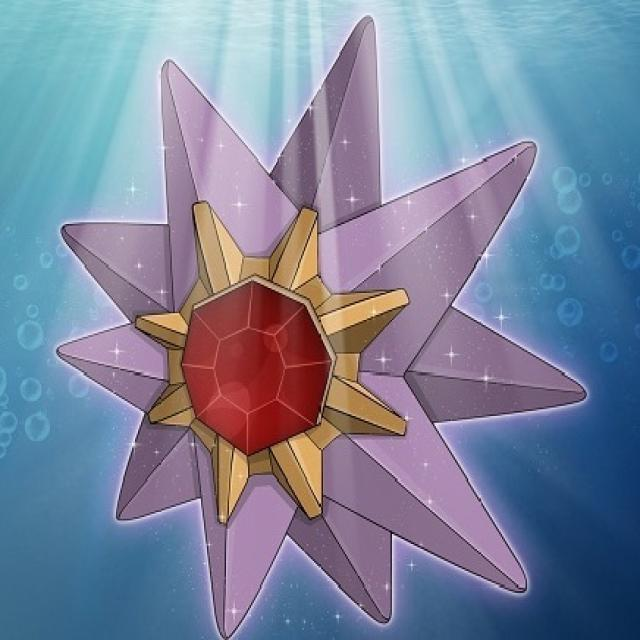Starmie: (123, 105, 483, 595)
